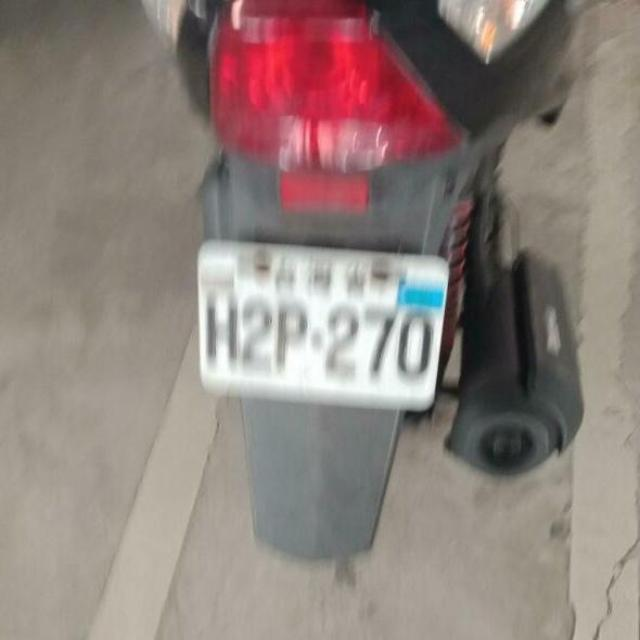W: (177, 216, 460, 426)
